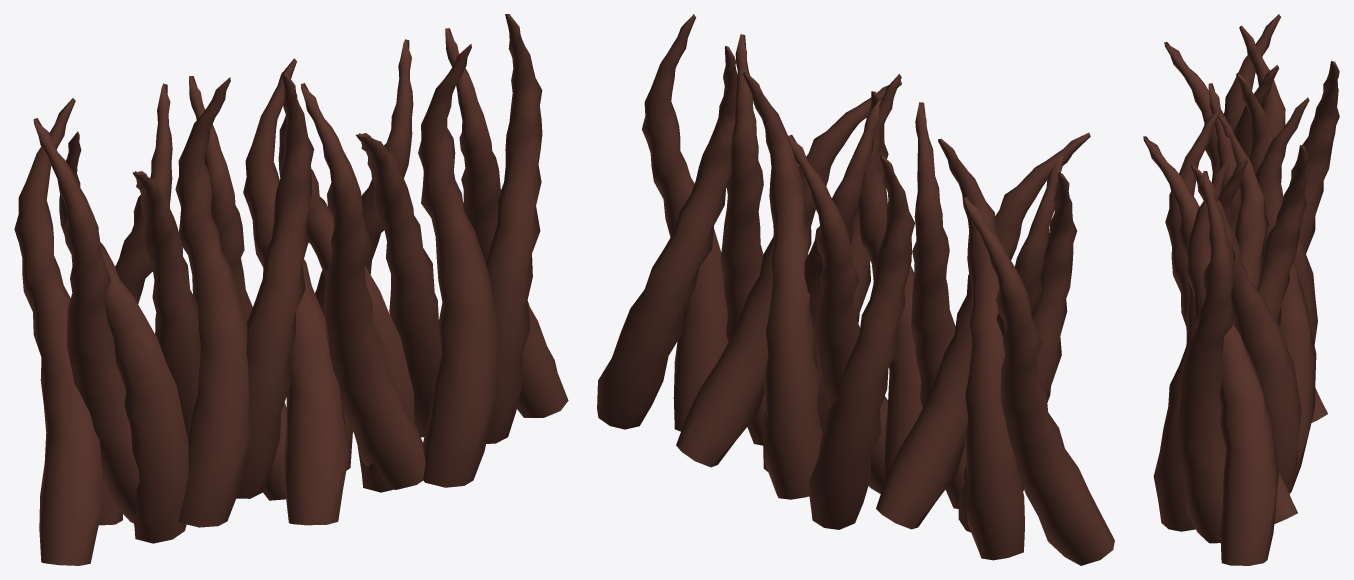
File: Vine_wall.fbx
3 views of the same model, side by side, from view 1: azimuth 30°, elevation 25°; view 2: azimuth 150°, elevation 25°; view 3: azimuth 270°, elevation 25° (orthographic). The views are drawn at different scales.
Visible parts, largest first — view 1: TreeVine_Low_UVs_3__8_, TreeVine_Low_UVs_3__16_, TreeVine_Low_UVs_3__21_, TreeVine_Low_UVs_3__10_, TreeVine_Low_UVs_3__12_, TreeVine_Low_UVs_3__14_, TreeVine_Low_UVs_3__19_, TreeVine_Low_UVs_3__6_, TreeVine_Low_UVs_3__18_, TreeVine_Low_UVs_3__9_, TreeVine_Low_UVs_3__7_, TreeVine_Low_UVs_3__17_ (+4 smaller); view 2: TreeVine_Low_UVs_3__13_, TreeVine_Low_UVs_3__7_, TreeVine_Low_UVs_3__21_, TreeVine_Low_UVs_3__15_, TreeVine_Low_UVs_3__20_, TreeVine_Low_UVs_3__17_, TreeVine_Low_UVs_3__9_, TreeVine_Low_UVs_3__6_, TreeVine_Low_UVs_3__16_, TreeVine_Low_UVs_3__12_, TreeVine_Low_UVs_3__8_, TreeVine_Low_UVs_3__14_ (+4 smaller); view 3: TreeVine_Low_UVs_3__7_, TreeVine_Low_UVs_3__6_, TreeVine_Low_UVs_3__13_, TreeVine_Low_UVs_3__15_, TreeVine_Low_UVs_3__8_, TreeVine_Low_UVs_3__12_, TreeVine_Low_UVs_3__21_, TreeVine_Low_UVs_3__11_, TreeVine_Low_UVs_3__9_, TreeVine_Low_UVs_3__10_, TreeVine_Low_UVs_3__20_, TreeVine_Low_UVs_3__17_ (+4 smaller).
Boxes of the visible parts, bbox=[...] form: TreeVine_Low_UVs_3__8_: bbox=[418, 44, 499, 487]; TreeVine_Low_UVs_3__16_: bbox=[175, 77, 252, 527]; TreeVine_Low_UVs_3__21_: bbox=[14, 98, 105, 565]; TreeVine_Low_UVs_3__10_: bbox=[300, 83, 425, 489]; TreeVine_Low_UVs_3__12_: bbox=[243, 58, 348, 525]; TreeVine_Low_UVs_3__14_: bbox=[236, 72, 314, 498]; TreeVine_Low_UVs_3__19_: bbox=[59, 131, 188, 543]; TreeVine_Low_UVs_3__6_: bbox=[485, 14, 542, 443]; TreeVine_Low_UVs_3__18_: bbox=[33, 118, 139, 523]; TreeVine_Low_UVs_3__9_: bbox=[356, 133, 441, 437]; TreeVine_Low_UVs_3__7_: bbox=[445, 28, 568, 417]; TreeVine_Low_UVs_3__17_: bbox=[132, 171, 200, 435]; TreeVine_Low_UVs_3__13_: bbox=[742, 72, 822, 499]; TreeVine_Low_UVs_3__7_: bbox=[597, 46, 737, 429]; TreeVine_Low_UVs_3__21_: bbox=[964, 196, 1114, 565]; TreeVine_Low_UVs_3__15_: bbox=[809, 155, 914, 529]; TreeVine_Low_UVs_3__20_: bbox=[938, 138, 1024, 560]; TreeVine_Low_UVs_3__17_: bbox=[876, 132, 1090, 529]; TreeVine_Low_UVs_3__9_: bbox=[676, 80, 901, 467]; TreeVine_Low_UVs_3__6_: bbox=[642, 14, 728, 431]; TreeVine_Low_UVs_3__16_: bbox=[911, 102, 966, 508]; TreeVine_Low_UVs_3__12_: bbox=[788, 134, 887, 493]; TreeVine_Low_UVs_3__8_: bbox=[720, 34, 765, 445]; TreeVine_Low_UVs_3__14_: bbox=[856, 74, 922, 479]; TreeVine_Low_UVs_3__7_: bbox=[1185, 160, 1278, 565]; TreeVine_Low_UVs_3__6_: bbox=[1178, 171, 1233, 543]; TreeVine_Low_UVs_3__13_: bbox=[1218, 158, 1301, 494]; TreeVine_Low_UVs_3__15_: bbox=[1255, 97, 1316, 492]; TreeVine_Low_UVs_3__8_: bbox=[1153, 164, 1235, 531]; TreeVine_Low_UVs_3__12_: bbox=[1258, 145, 1308, 325]; TreeVine_Low_UVs_3__21_: bbox=[1299, 61, 1339, 253]; TreeVine_Low_UVs_3__11_: bbox=[1218, 114, 1268, 324]; TreeVine_Low_UVs_3__9_: bbox=[1143, 136, 1297, 523]; TreeVine_Low_UVs_3__10_: bbox=[1165, 109, 1219, 326]; TreeVine_Low_UVs_3__20_: bbox=[1233, 65, 1317, 344]; TreeVine_Low_UVs_3__17_: bbox=[1164, 42, 1327, 422].
Bounding box in the file's own units: 540 × 450 × 199.
